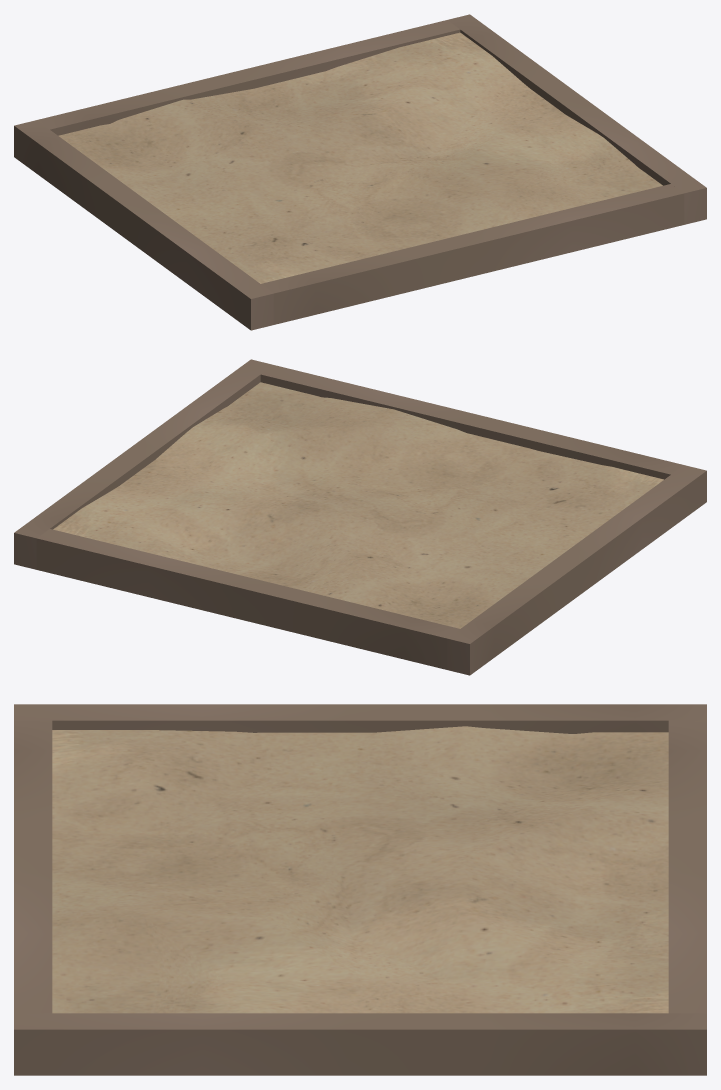
File: Prop_ParkSandbox01.fbx
The picture shows the model from 3 angles, top to bottom: view 1: azimuth 30°, elevation 25°; view 2: azimuth 150°, elevation 25°; view 3: azimuth 270°, elevation 25°; orthographic projection. The views are drawn at different scales.
Parts seen in each view (by area): view 1: Prop_ParkSandbox01; view 2: Prop_ParkSandbox01; view 3: Prop_ParkSandbox01.
Part boxes in pixels (left/top/right/bottom): Prop_ParkSandbox01: left=14, top=14, right=706, bottom=330; Prop_ParkSandbox01: left=14, top=359, right=706, bottom=675; Prop_ParkSandbox01: left=14, top=704, right=706, bottom=1075.
Size of the model in its own units: 4.06 by 0.2951 by 3.66.
